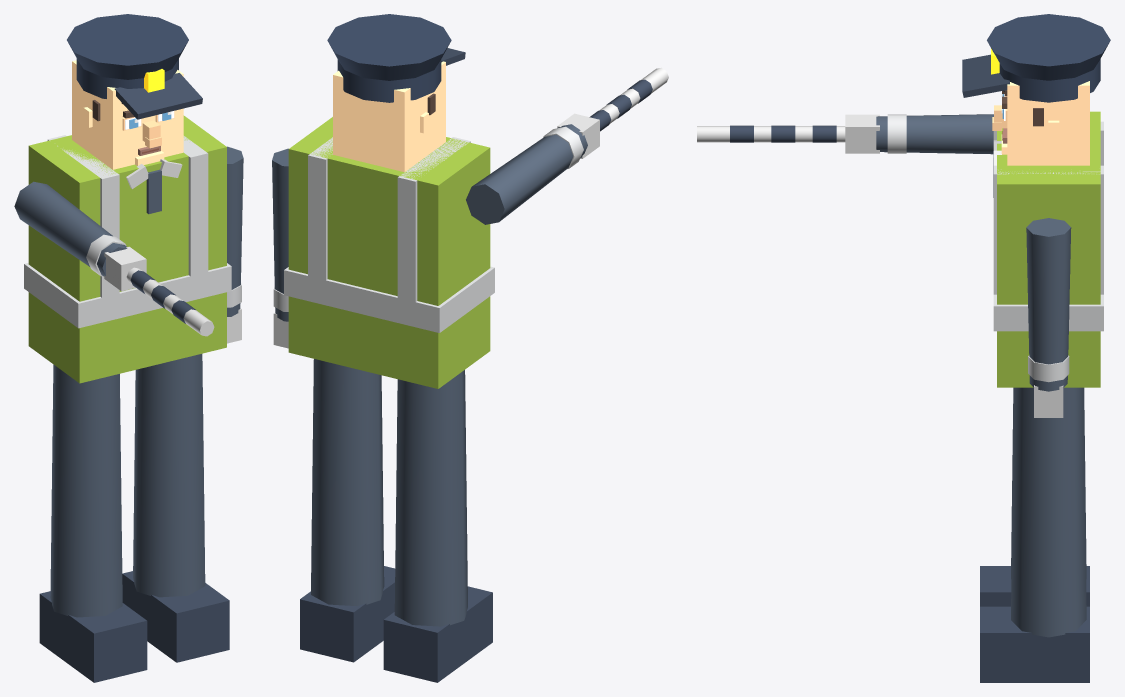
File: actor_1.glb
3 views of the same model, side by side, from view 1: azimuth 30°, elevation 25°; view 2: azimuth 150°, elevation 25°; view 3: azimuth 270°, elevation 25° (orthographic).
Visible parts, largest first — view 1: ticket_27_13_regulator:c1e293b, ticket_27_13_regulator:c84cc16, ticket_27_13_regulator:c111827, ticket_27_13_regulator:cf1f5f9, ticket_27_13_regulator:c0f172a, ticket_27_13_regulator:ce2a76f, ticket_27_13_regulator:cffffff, ticket_27_13_regulator:cc88652, ticket_27_13_regulator:cf59e0b; view 2: ticket_27_13_regulator:c1e293b, ticket_27_13_regulator:c84cc16, ticket_27_13_regulator:cf1f5f9, ticket_27_13_regulator:c111827, ticket_27_13_regulator:c0f172a, ticket_27_13_regulator:ce2a76f, ticket_27_13_regulator:cffffff; view 3: ticket_27_13_regulator:c1e293b, ticket_27_13_regulator:c84cc16, ticket_27_13_regulator:c111827, ticket_27_13_regulator:c0f172a, ticket_27_13_regulator:ce2a76f, ticket_27_13_regulator:cf1f5f9, ticket_27_13_regulator:cffffff.
Boxes of the visible parts, box(x1,y1,x2,y2) form: ticket_27_13_regulator:c1e293b: box(14, 146, 243, 617); ticket_27_13_regulator:c84cc16: box(28, 115, 226, 383); ticket_27_13_regulator:c111827: box(39, 73, 229, 682); ticket_27_13_regulator:cf1f5f9: box(24, 135, 241, 328); ticket_27_13_regulator:c0f172a: box(67, 14, 188, 98); ticket_27_13_regulator:ce2a76f: box(72, 60, 183, 169); ticket_27_13_regulator:cffffff: box(104, 159, 241, 343); ticket_27_13_regulator:cc88652: box(122, 111, 174, 148); ticket_27_13_regulator:cf59e0b: box(144, 69, 164, 92); ticket_27_13_regulator:c1e293b: box(272, 124, 587, 626); ticket_27_13_regulator:c84cc16: box(288, 117, 490, 388); ticket_27_13_regulator:cf1f5f9: box(273, 126, 583, 332); ticket_27_13_regulator:c111827: box(300, 48, 652, 682); ticket_27_13_regulator:c0f172a: box(327, 14, 451, 102); ticket_27_13_regulator:ce2a76f: box(333, 61, 445, 171); ticket_27_13_regulator:cffffff: box(273, 67, 668, 348); ticket_27_13_regulator:c1e293b: box(876, 114, 1086, 637); ticket_27_13_regulator:c84cc16: box(997, 111, 1100, 387); ticket_27_13_regulator:c111827: box(730, 54, 1089, 682); ticket_27_13_regulator:c0f172a: box(987, 14, 1110, 102); ticket_27_13_regulator:ce2a76f: box(1001, 81, 1089, 165); ticket_27_13_regulator:cf1f5f9: box(887, 114, 1103, 382); ticket_27_13_regulator:cffffff: box(697, 114, 1063, 417).
Size of the model in its own units: 0.77 by 1.95 by 1.2.
